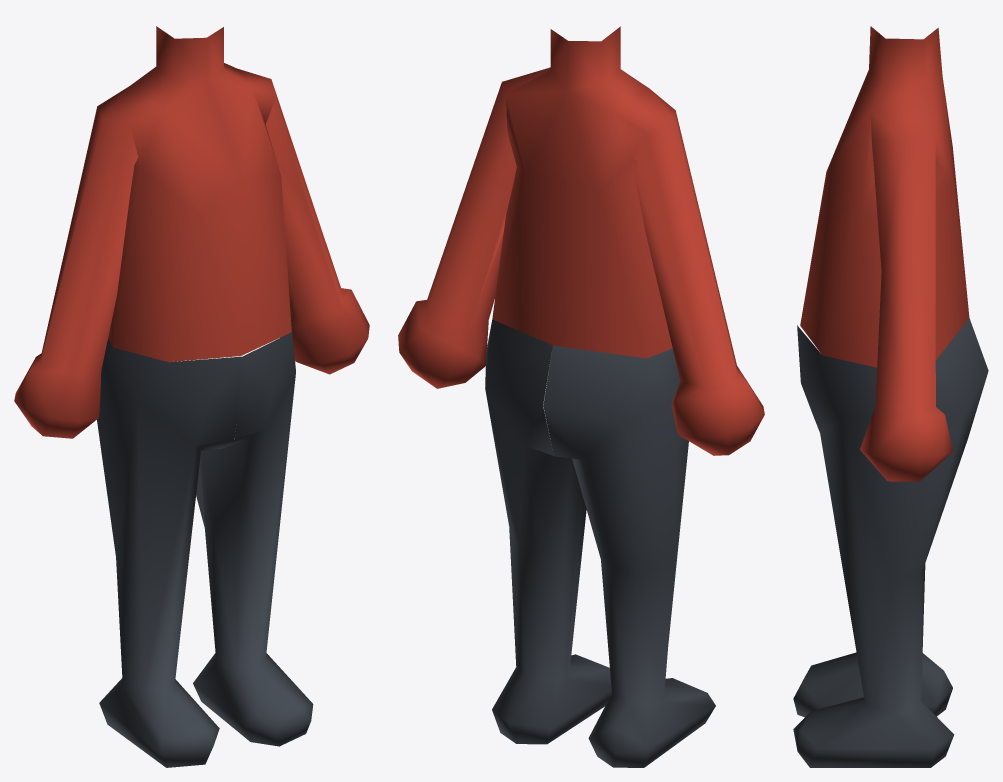
File: Male3.gltf
3 renders of one model, left to right at view 1: azimuth 30°, elevation 25°; view 2: azimuth 150°, elevation 25°; view 3: azimuth 270°, elevation 25°, orthographic. The views are drawn at different scales.
Parts seen in each view (by area): view 1: シャツ_Mesh_0002.rip_mesh0000.003, ズボン_Mesh_0002.rip_mesh0000.005, ズボン_Mesh_0002.rip_mesh0000.001; view 2: シャツ_Mesh_0002.rip_mesh0000.003, ズボン_Mesh_0002.rip_mesh0000.005, ズボン_Mesh_0002.rip_mesh0000.001; view 3: シャツ_Mesh_0002.rip_mesh0000.003, ズボン_Mesh_0002.rip_mesh0000.001, ズボン_Mesh_0002.rip_mesh0000.005.
Boxes of the visible parts, x1,y1,x2,y2 form: シャツ_Mesh_0002.rip_mesh0000.003: (14, 26, 369, 438); ズボン_Mesh_0002.rip_mesh0000.005: (97, 338, 242, 767); ズボン_Mesh_0002.rip_mesh0000.001: (193, 325, 313, 746); シャツ_Mesh_0002.rip_mesh0000.003: (398, 26, 764, 455); ズボン_Mesh_0002.rip_mesh0000.005: (543, 345, 715, 767); ズボン_Mesh_0002.rip_mesh0000.001: (485, 319, 611, 744); シャツ_Mesh_0002.rip_mesh0000.003: (800, 26, 969, 481); ズボン_Mesh_0002.rip_mesh0000.001: (793, 318, 988, 767); ズボン_Mesh_0002.rip_mesh0000.005: (793, 652, 952, 717).
Bounding box in the file's own units: 0.6485 × 1.25 × 0.3127.
2 materials, 2 textured.
